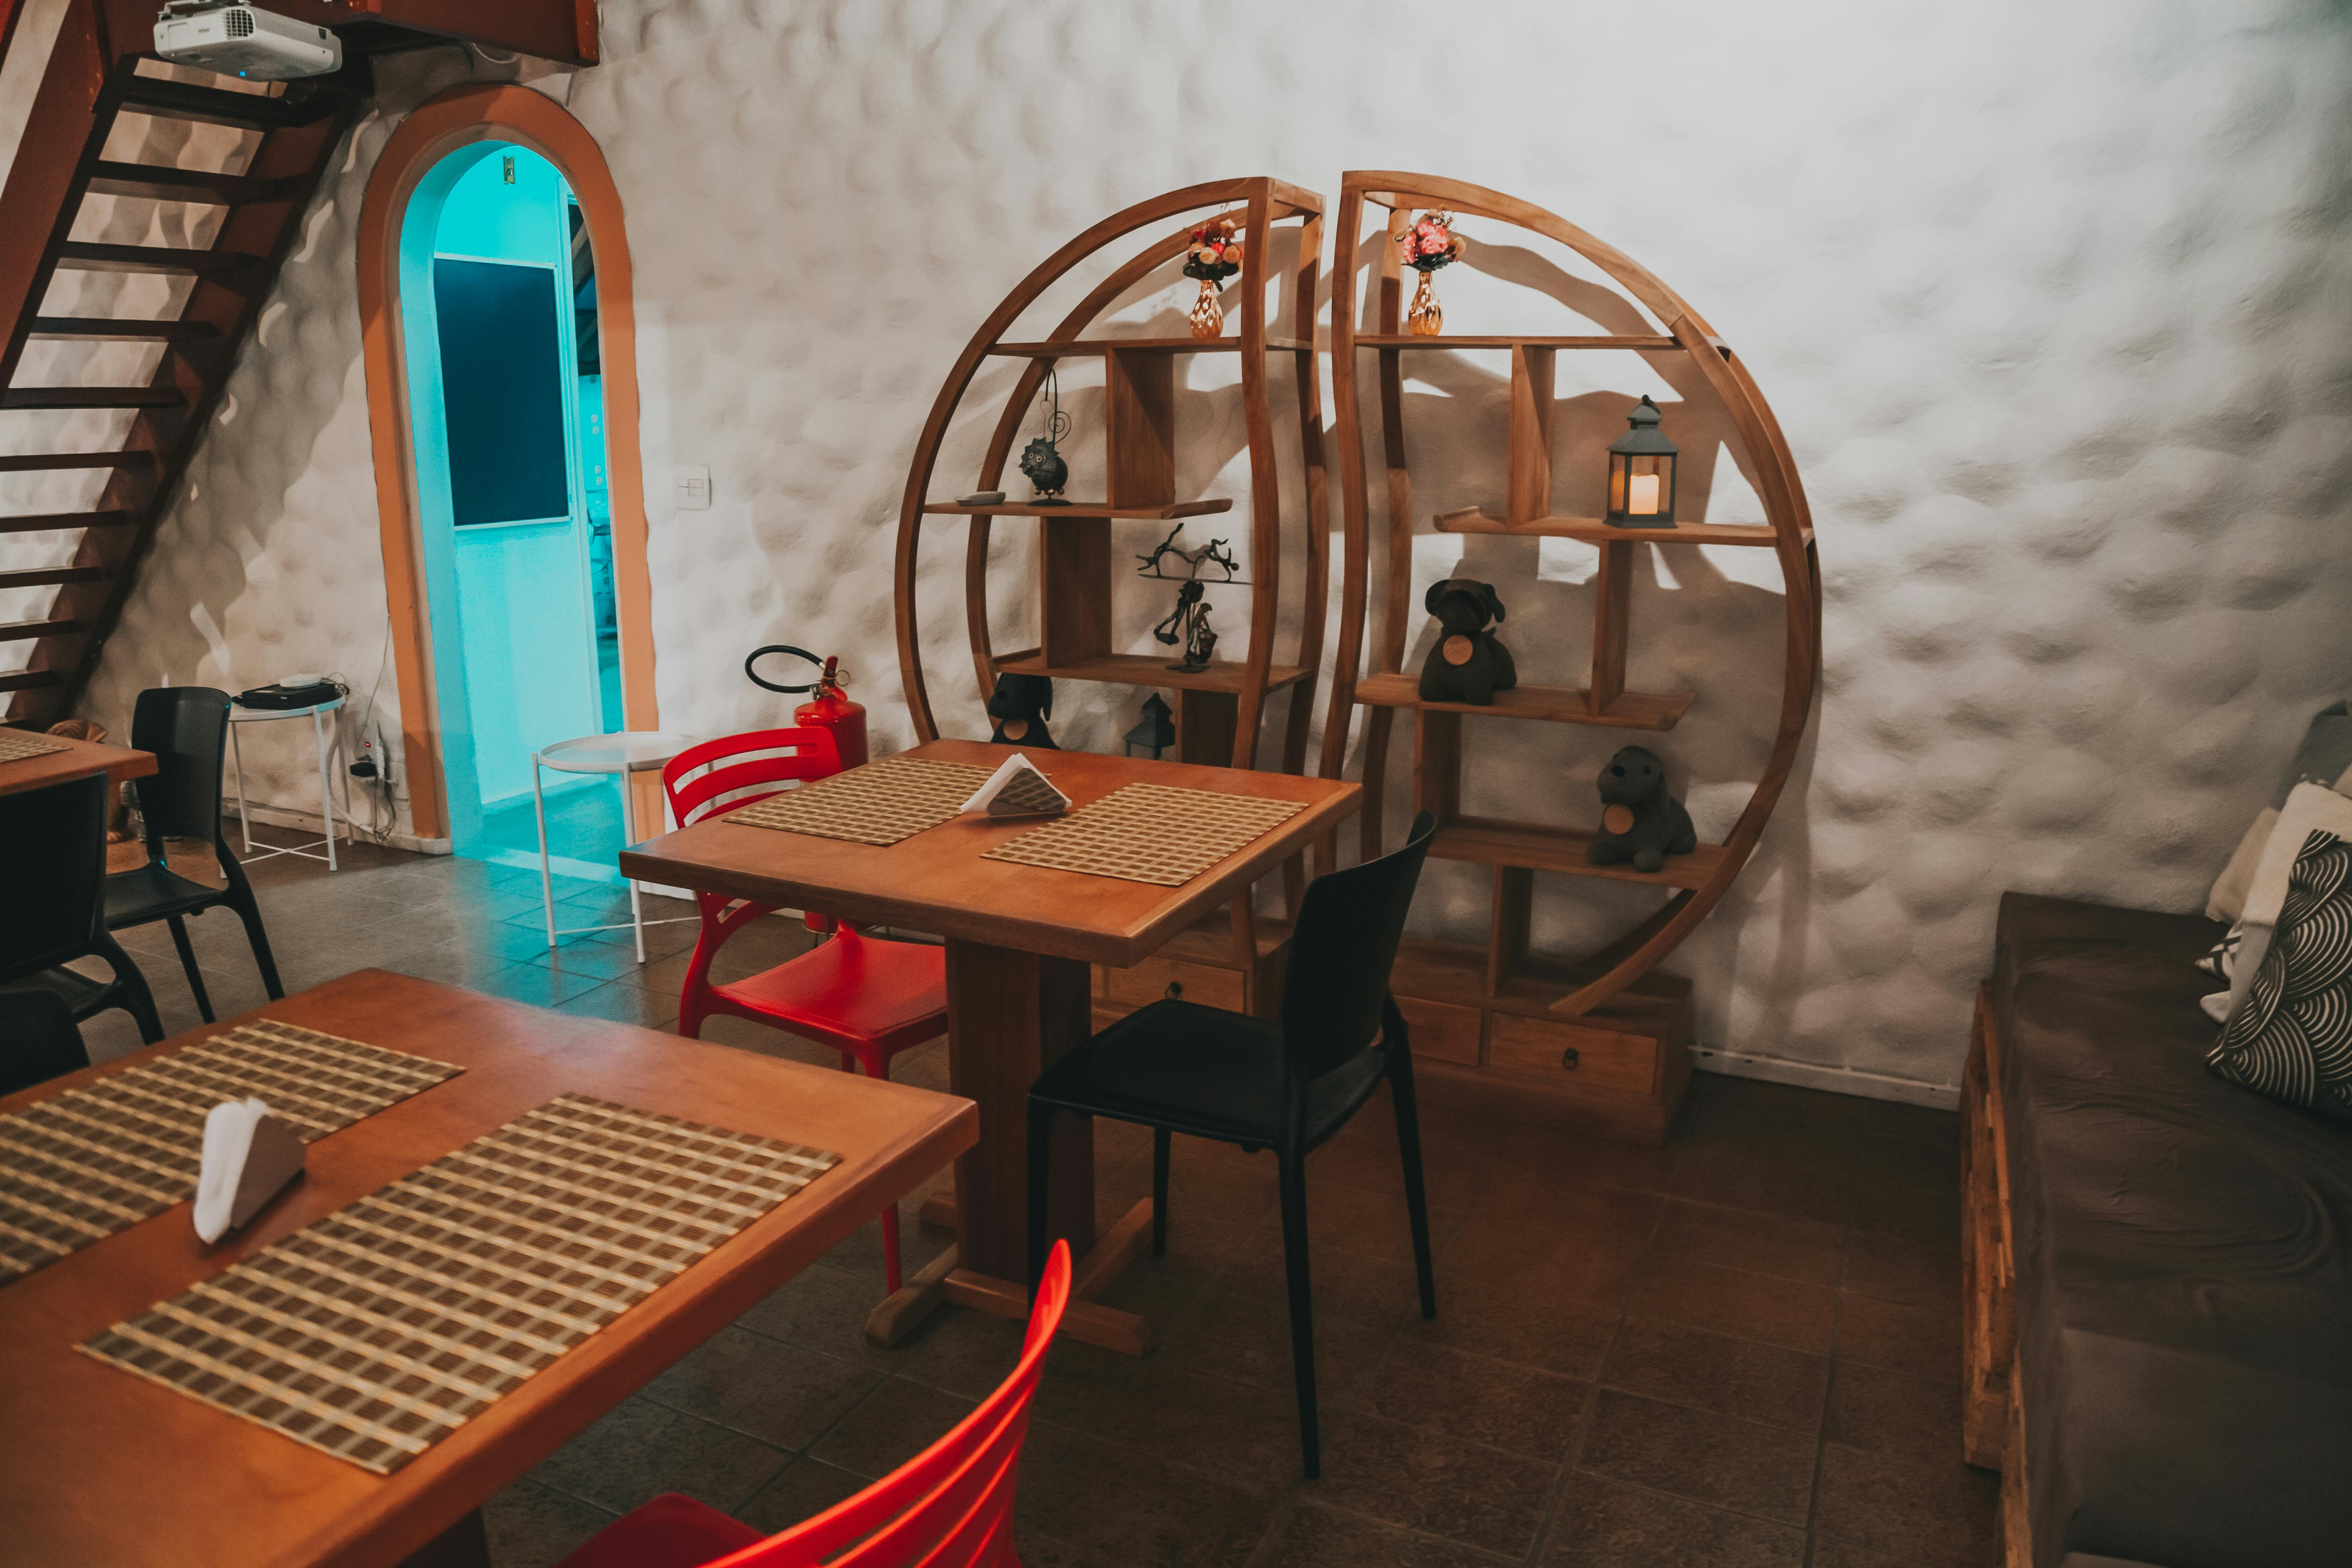extintor: (737, 639, 877, 940)
